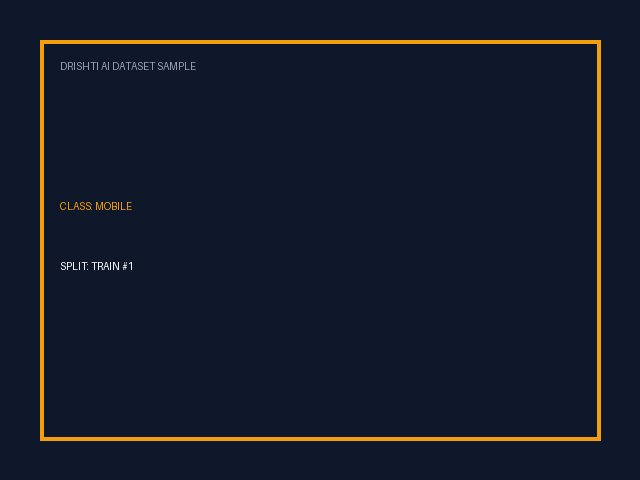mobile_phone: (225, 131, 442, 365)
